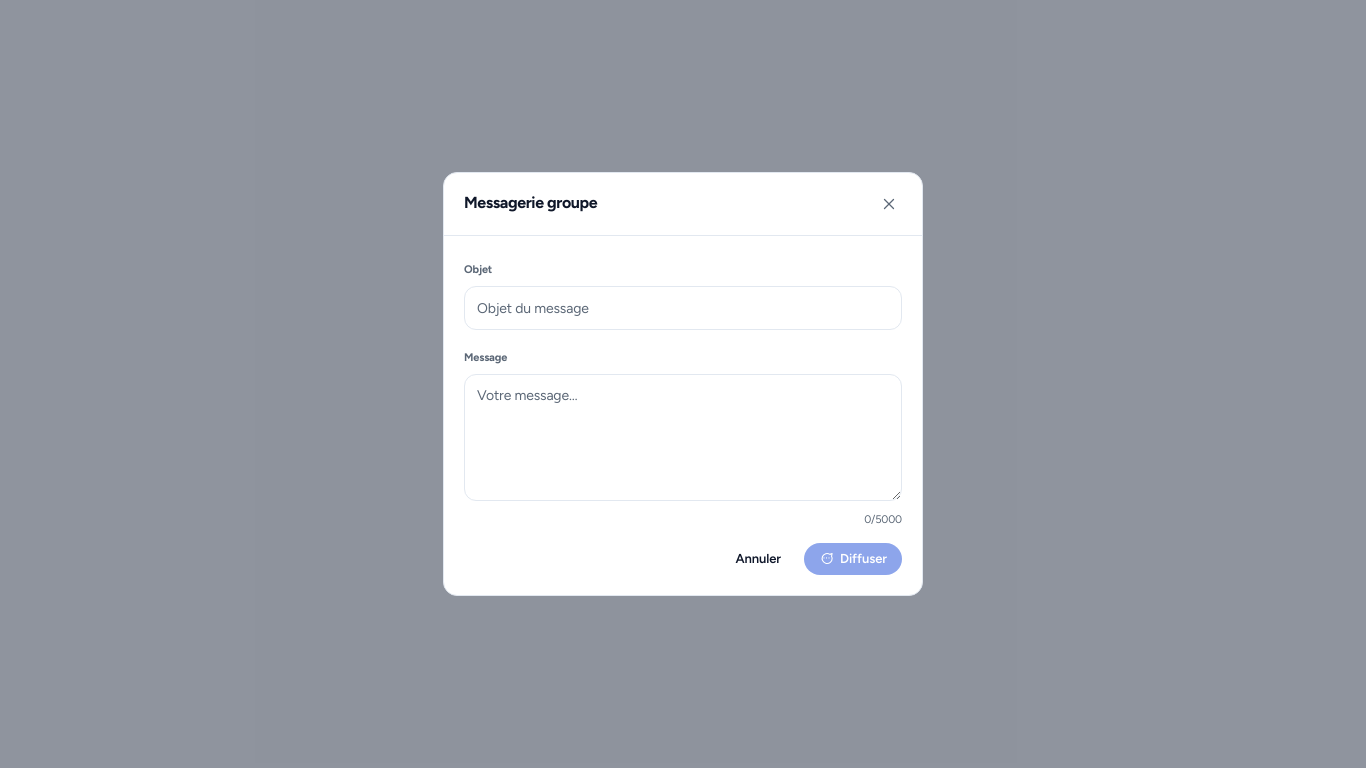
Test: ComposeDialog › soumet les valeurs trimmées et affiche le succès
Type "  Sujet  " into the field with placeholder "Objet du message" at {"x": 683, "y": 308}, box [464, 286, 902, 330]
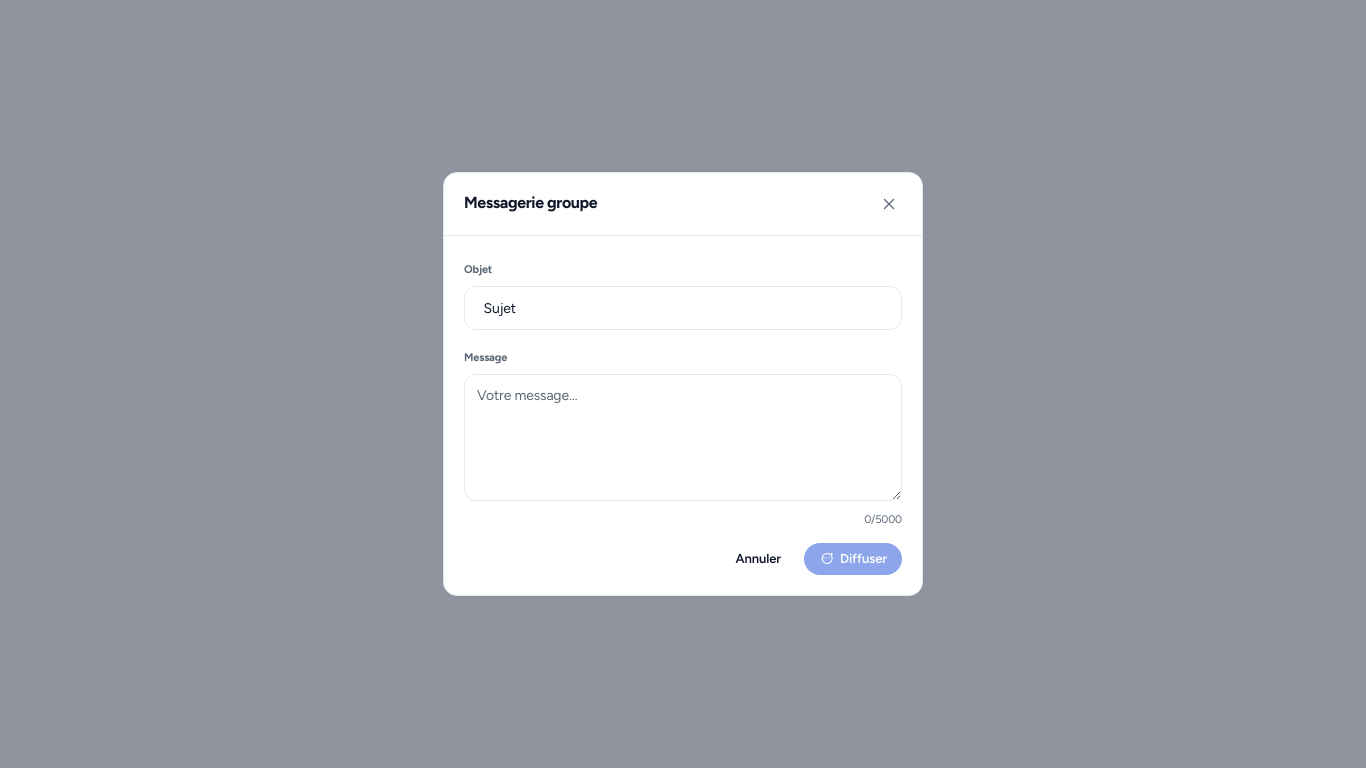
Type "  Corps  " into the text box with placeholder "Votre message…" at {"x": 683, "y": 438}, box [464, 374, 902, 501]
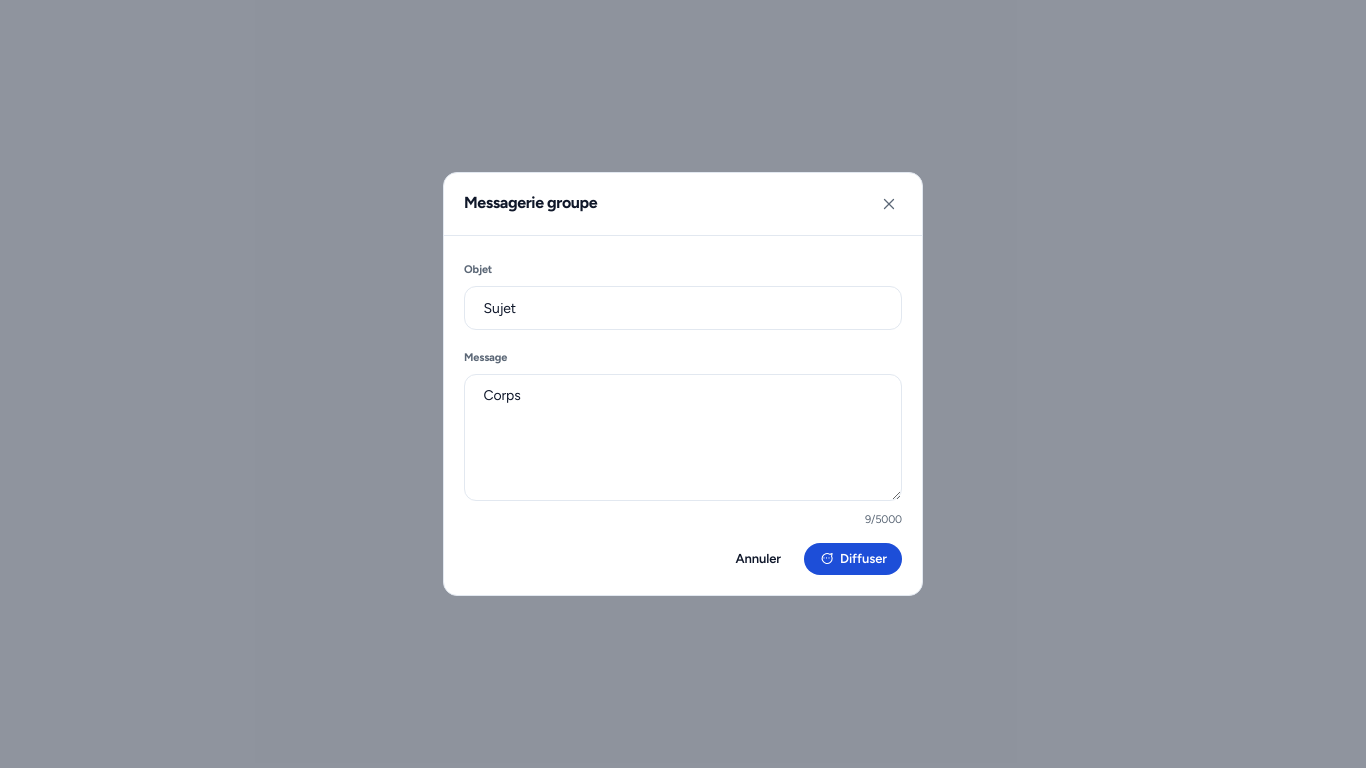
Click the button "Diffuser" at {"x": 853, "y": 559}, box [804, 543, 902, 575]
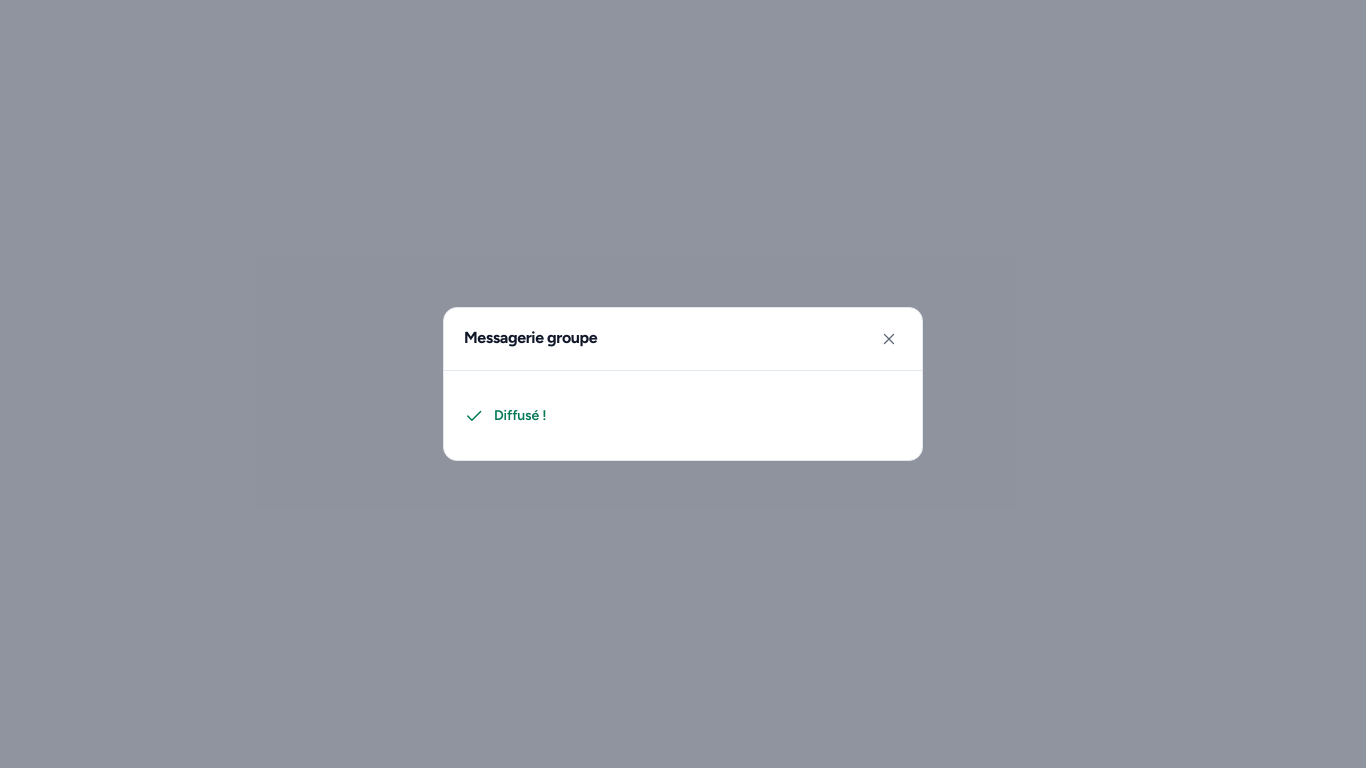
Expected: the text "Diffusé !" is shown, [494, 405, 546, 426]
